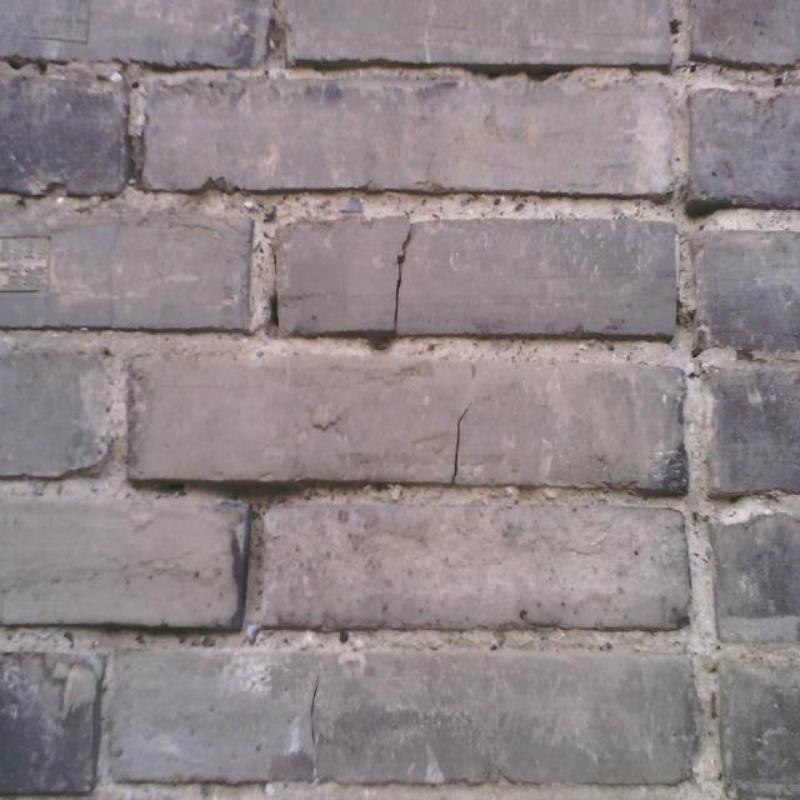crack: (395, 227, 411, 332), (452, 405, 469, 484), (310, 676, 319, 747), (271, 296, 278, 322)
